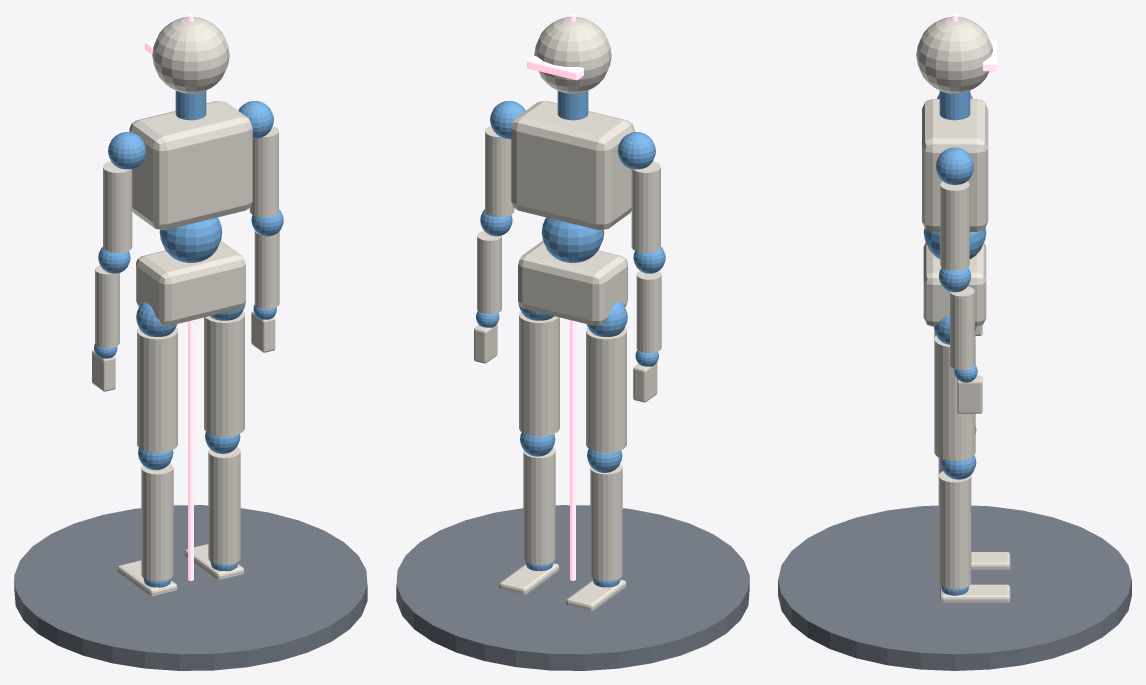
File: mannequin_articulated_calibration_rig.glb
The picture shows the model from 3 angles, left to right: view 1: azimuth 30°, elevation 25°; view 2: azimuth 150°, elevation 25°; view 3: azimuth 270°, elevation 25°; orthographic projection.
Visible parts, largest first — view 1: FootWedge_L, CalibrationBaseDisc, AnkleJoint_L, CenterOfGravityPlumb; view 2: FootWedge_L, CalibrationBaseDisc, AnkleJoint_L, CenterOfGravityPlumb; view 3: CalibrationBaseDisc, FootWedge_L, AnkleJoint_L.
Boxes of the visible parts, x1=… form: FootWedge_L: x1=92, y1=17, x2=279, y2=595; CalibrationBaseDisc: x1=14, y1=505, x2=367, y2=670; AnkleJoint_L: x1=94, y1=91, x2=283, y2=587; CenterOfGravityPlumb: x1=145, y1=14, x2=193, y2=580; FootWedge_L: x1=474, y1=17, x2=661, y2=610; CalibrationBaseDisc: x1=396, y1=505, x2=749, y2=670; AnkleJoint_L: x1=476, y1=91, x2=665, y2=587; CenterOfGravityPlumb: x1=527, y1=14, x2=583, y2=580; CalibrationBaseDisc: x1=778, y1=505, x2=1131, y2=670; FootWedge_L: x1=916, y1=17, x2=1010, y2=602; AnkleJoint_L: x1=923, y1=91, x2=986, y2=595.
Size of the model in its own units: 0.96 by 1.74 by 0.96.
